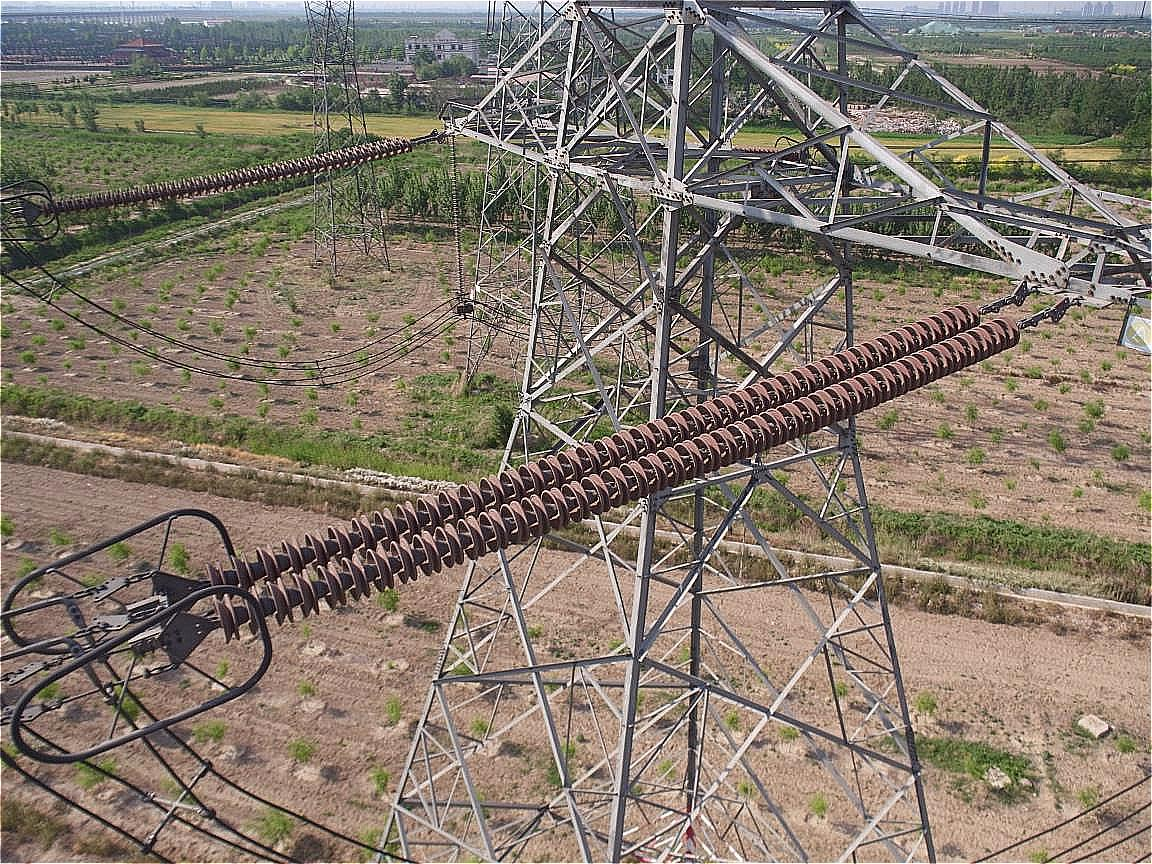insultor2: (176, 281, 1053, 658), (35, 133, 420, 207)
